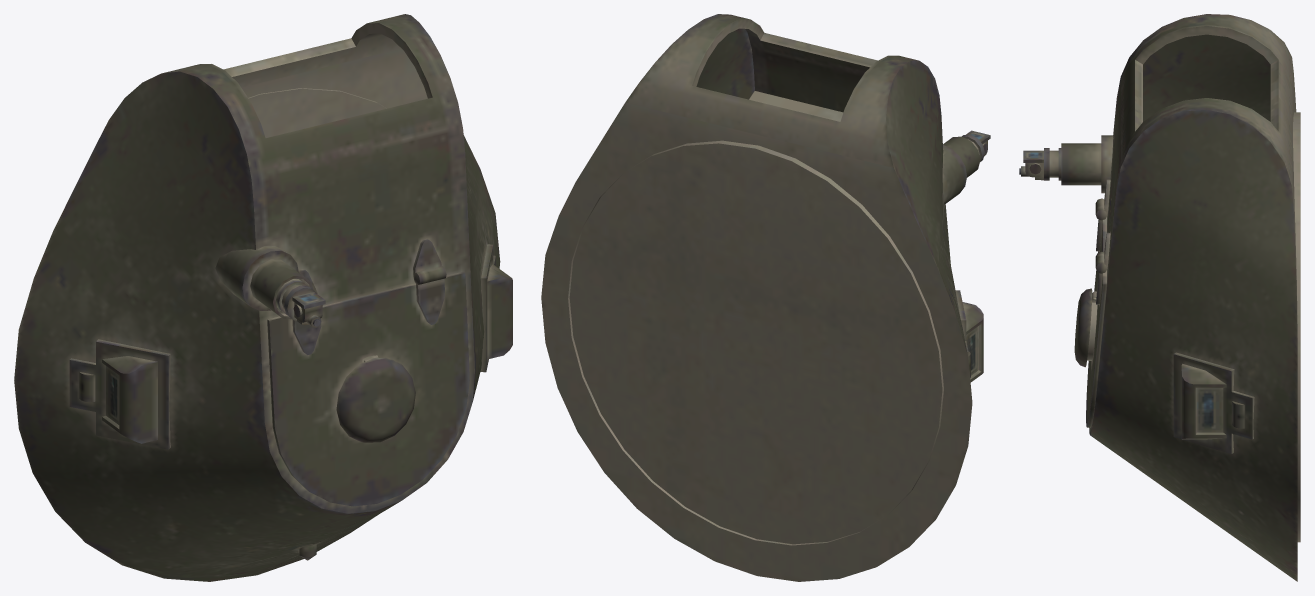
File: Turret_01.glb
3 renders of one model, left to right at view 1: azimuth 30°, elevation 25°; view 2: azimuth 150°, elevation 25°; view 3: azimuth 270°, elevation 25°, orthographic. The views are drawn at different scales.
Visible parts, largest first — view 1: set_0_group_0; view 2: set_0_group_0; view 3: set_0_group_0.
Boxes of the visible parts, left/top/right/bottom form: set_0_group_0: left=14, top=14, right=512, bottom=581; set_0_group_0: left=541, top=14, right=990, bottom=581; set_0_group_0: left=1019, top=14, right=1300, bottom=581.
Size of the model in its own units: 1.27 by 1.4 by 0.7197.
1 material, 1 textured.
